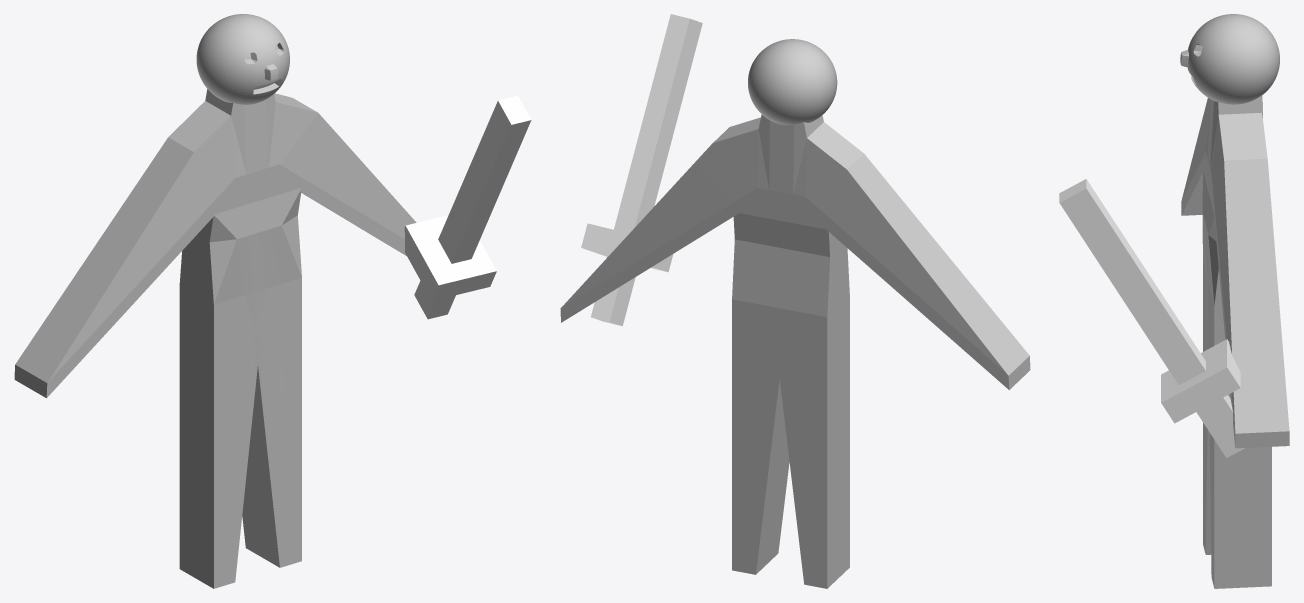
The model's file is Player.obj.
3 renders of one model, left to right at view 1: azimuth 30°, elevation 25°; view 2: azimuth 150°, elevation 25°; view 3: azimuth 270°, elevation 25°, orthographic. The views are drawn at different scales.
Visible parts, largest first — view 1: 球.003, 立方体.001; view 2: 球.003, 立方体.001; view 3: 球.003, 立方体.001.
Boxes of the visible parts, x1=… form: 球.003: x1=14, y1=14, x2=416, y2=588; 立方体.001: x1=404, y1=95, x2=531, y2=319; 球.003: x1=560, y1=39, x2=1030, y2=588; 立方体.001: x1=581, y1=14, x2=702, y2=326; 球.003: x1=1180, y1=14, x2=1289, y2=588; 立方体.001: x1=1059, y1=179, x2=1244, y2=457.
Size of the model in its own units: 2.64 by 3.09 by 1.18.
